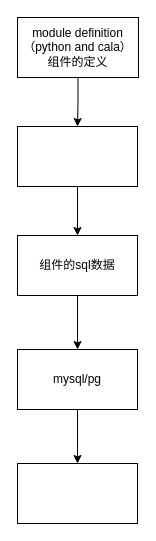
Image size: 156x541. Some labels were removed from this diagram. Each missing label, with the centre of its shape:
modelengine: pixel 77 493
module_export.python moduleExport.scala: pixel 77 156
